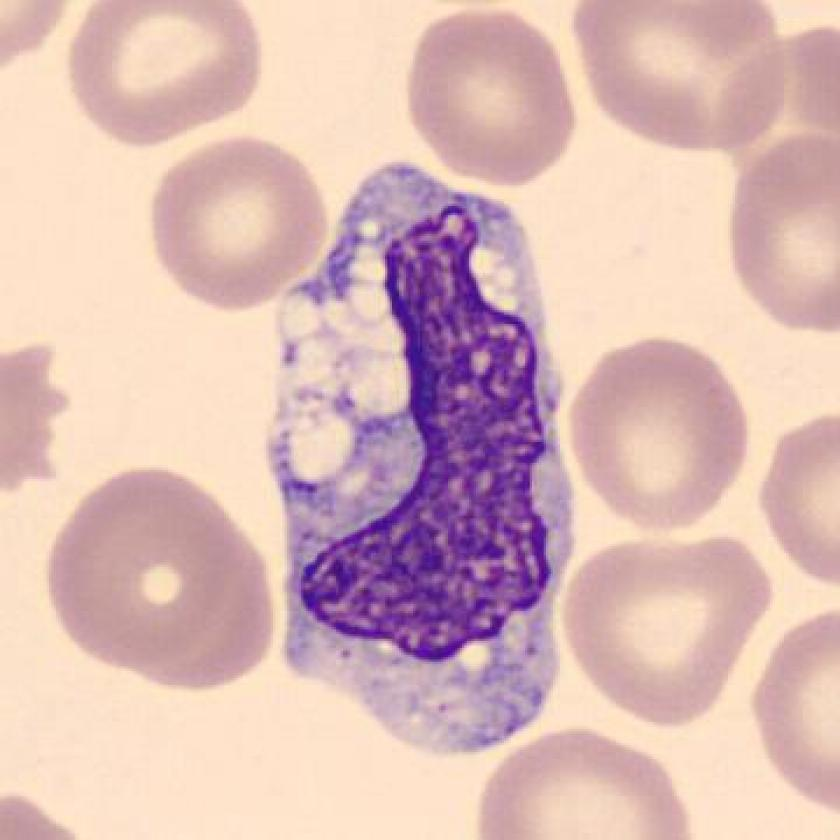monocyte: (253, 142, 612, 774)
